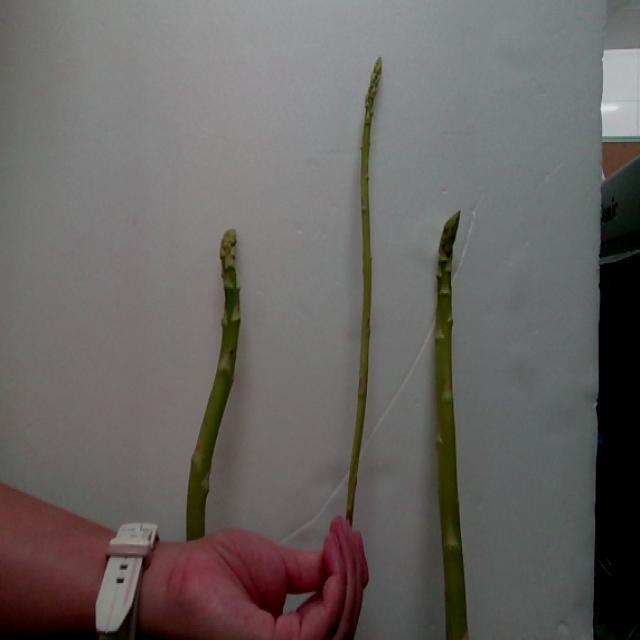aspargus: (186, 231, 244, 543), (346, 60, 384, 525), (435, 215, 471, 640)
